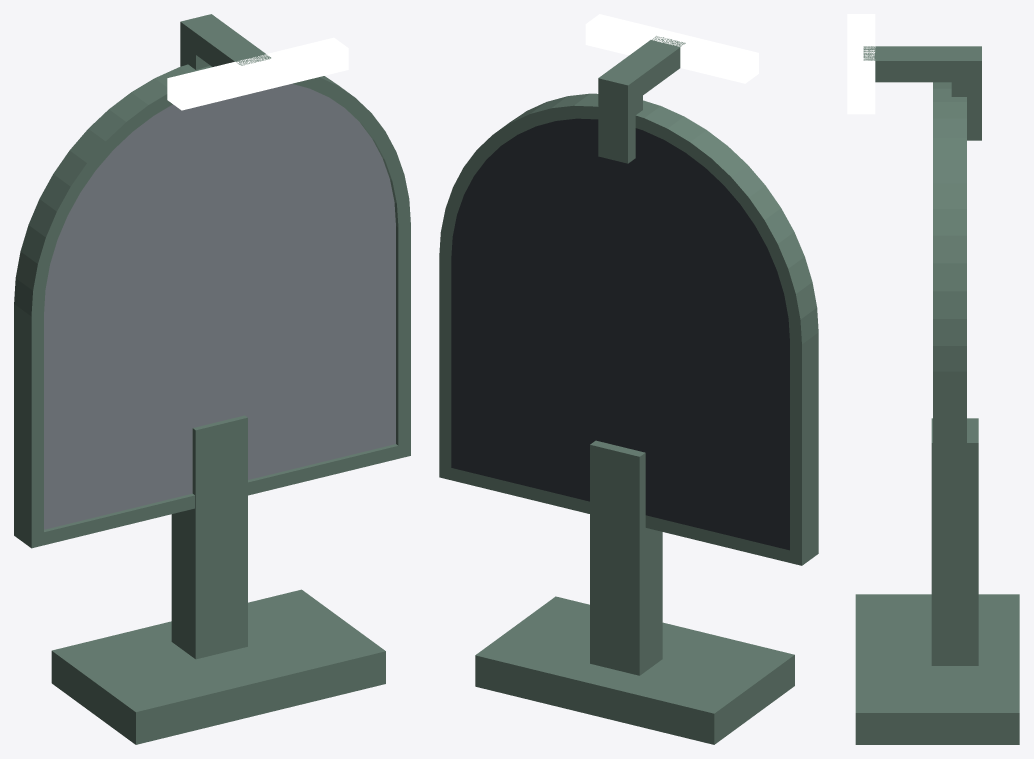
3 views of the same model, side by side, from view 1: azimuth 30°, elevation 25°; view 2: azimuth 150°, elevation 25°; view 3: azimuth 270°, elevation 25° (orthographic). The views are drawn at different scales.
Parts seen in each view (by area): view 1: makeup-face-center, makeup-base, makeup-frame-center, makeup-post, makeup-lamp, makeup-lamp-arm; view 2: makeup-back-center, makeup-frame-center, makeup-base, makeup-post, makeup-lamp, makeup-lamp-arm, makeup-lamp-riser; view 3: makeup-base, makeup-frame-center, makeup-post, makeup-lamp-arm, makeup-lamp, makeup-lamp-riser.
Part boxes in pixels (x1=…): makeup-face-center: x1=44, y1=84, x2=395, y2=529; makeup-base: x1=51, y1=589, x2=385, y2=744; makeup-frame-center: x1=14, y1=64, x2=410, y2=548; makeup-post: x1=171, y1=415, x2=247, y2=659; makeup-lamp: x1=167, y1=37, x2=348, y2=110; makeup-lamp-arm: x1=180, y1=14, x2=270, y2=66; makeup-back-center: x1=451, y1=118, x2=789, y2=550; makeup-frame-center: x1=439, y1=93, x2=818, y2=565; makeup-base: x1=475, y1=596, x2=794, y2=744; makeup-post: x1=590, y1=440, x2=662, y2=675; makeup-lamp: x1=585, y1=14, x2=758, y2=83; makeup-lamp-arm: x1=598, y1=36, x2=685, y2=105; makeup-lamp-riser: x1=598, y1=82, x2=642, y2=163; makeup-base: x1=855, y1=594, x2=1019, y2=744; makeup-frame-center: x1=933, y1=82, x2=966, y2=597; makeup-post: x1=931, y1=418, x2=978, y2=665; makeup-lamp-arm: x1=863, y1=46, x2=981, y2=82; makeup-lamp: x1=847, y1=14, x2=875, y2=114; makeup-lamp-riser: x1=951, y1=68, x2=981, y2=140.
Size of the model in its own units: 0.364 by 0.595 by 0.147.
